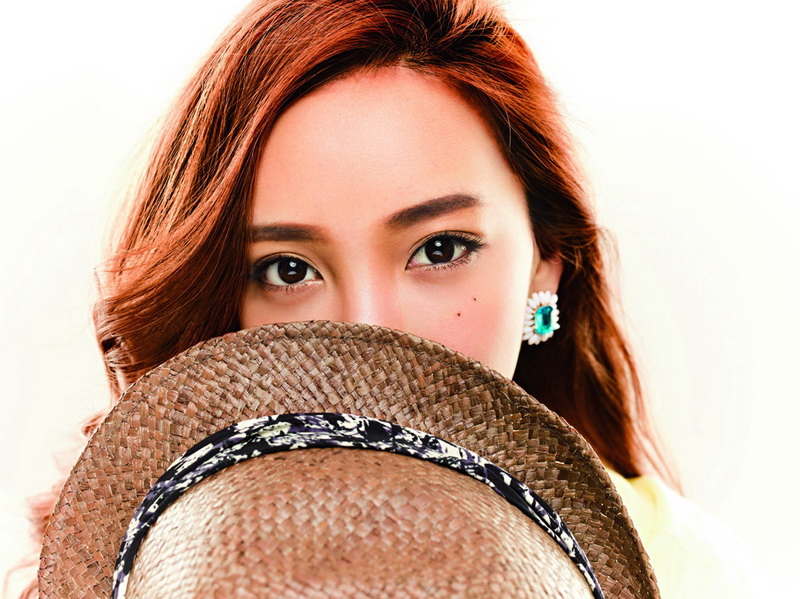face: (208, 95, 529, 454)
